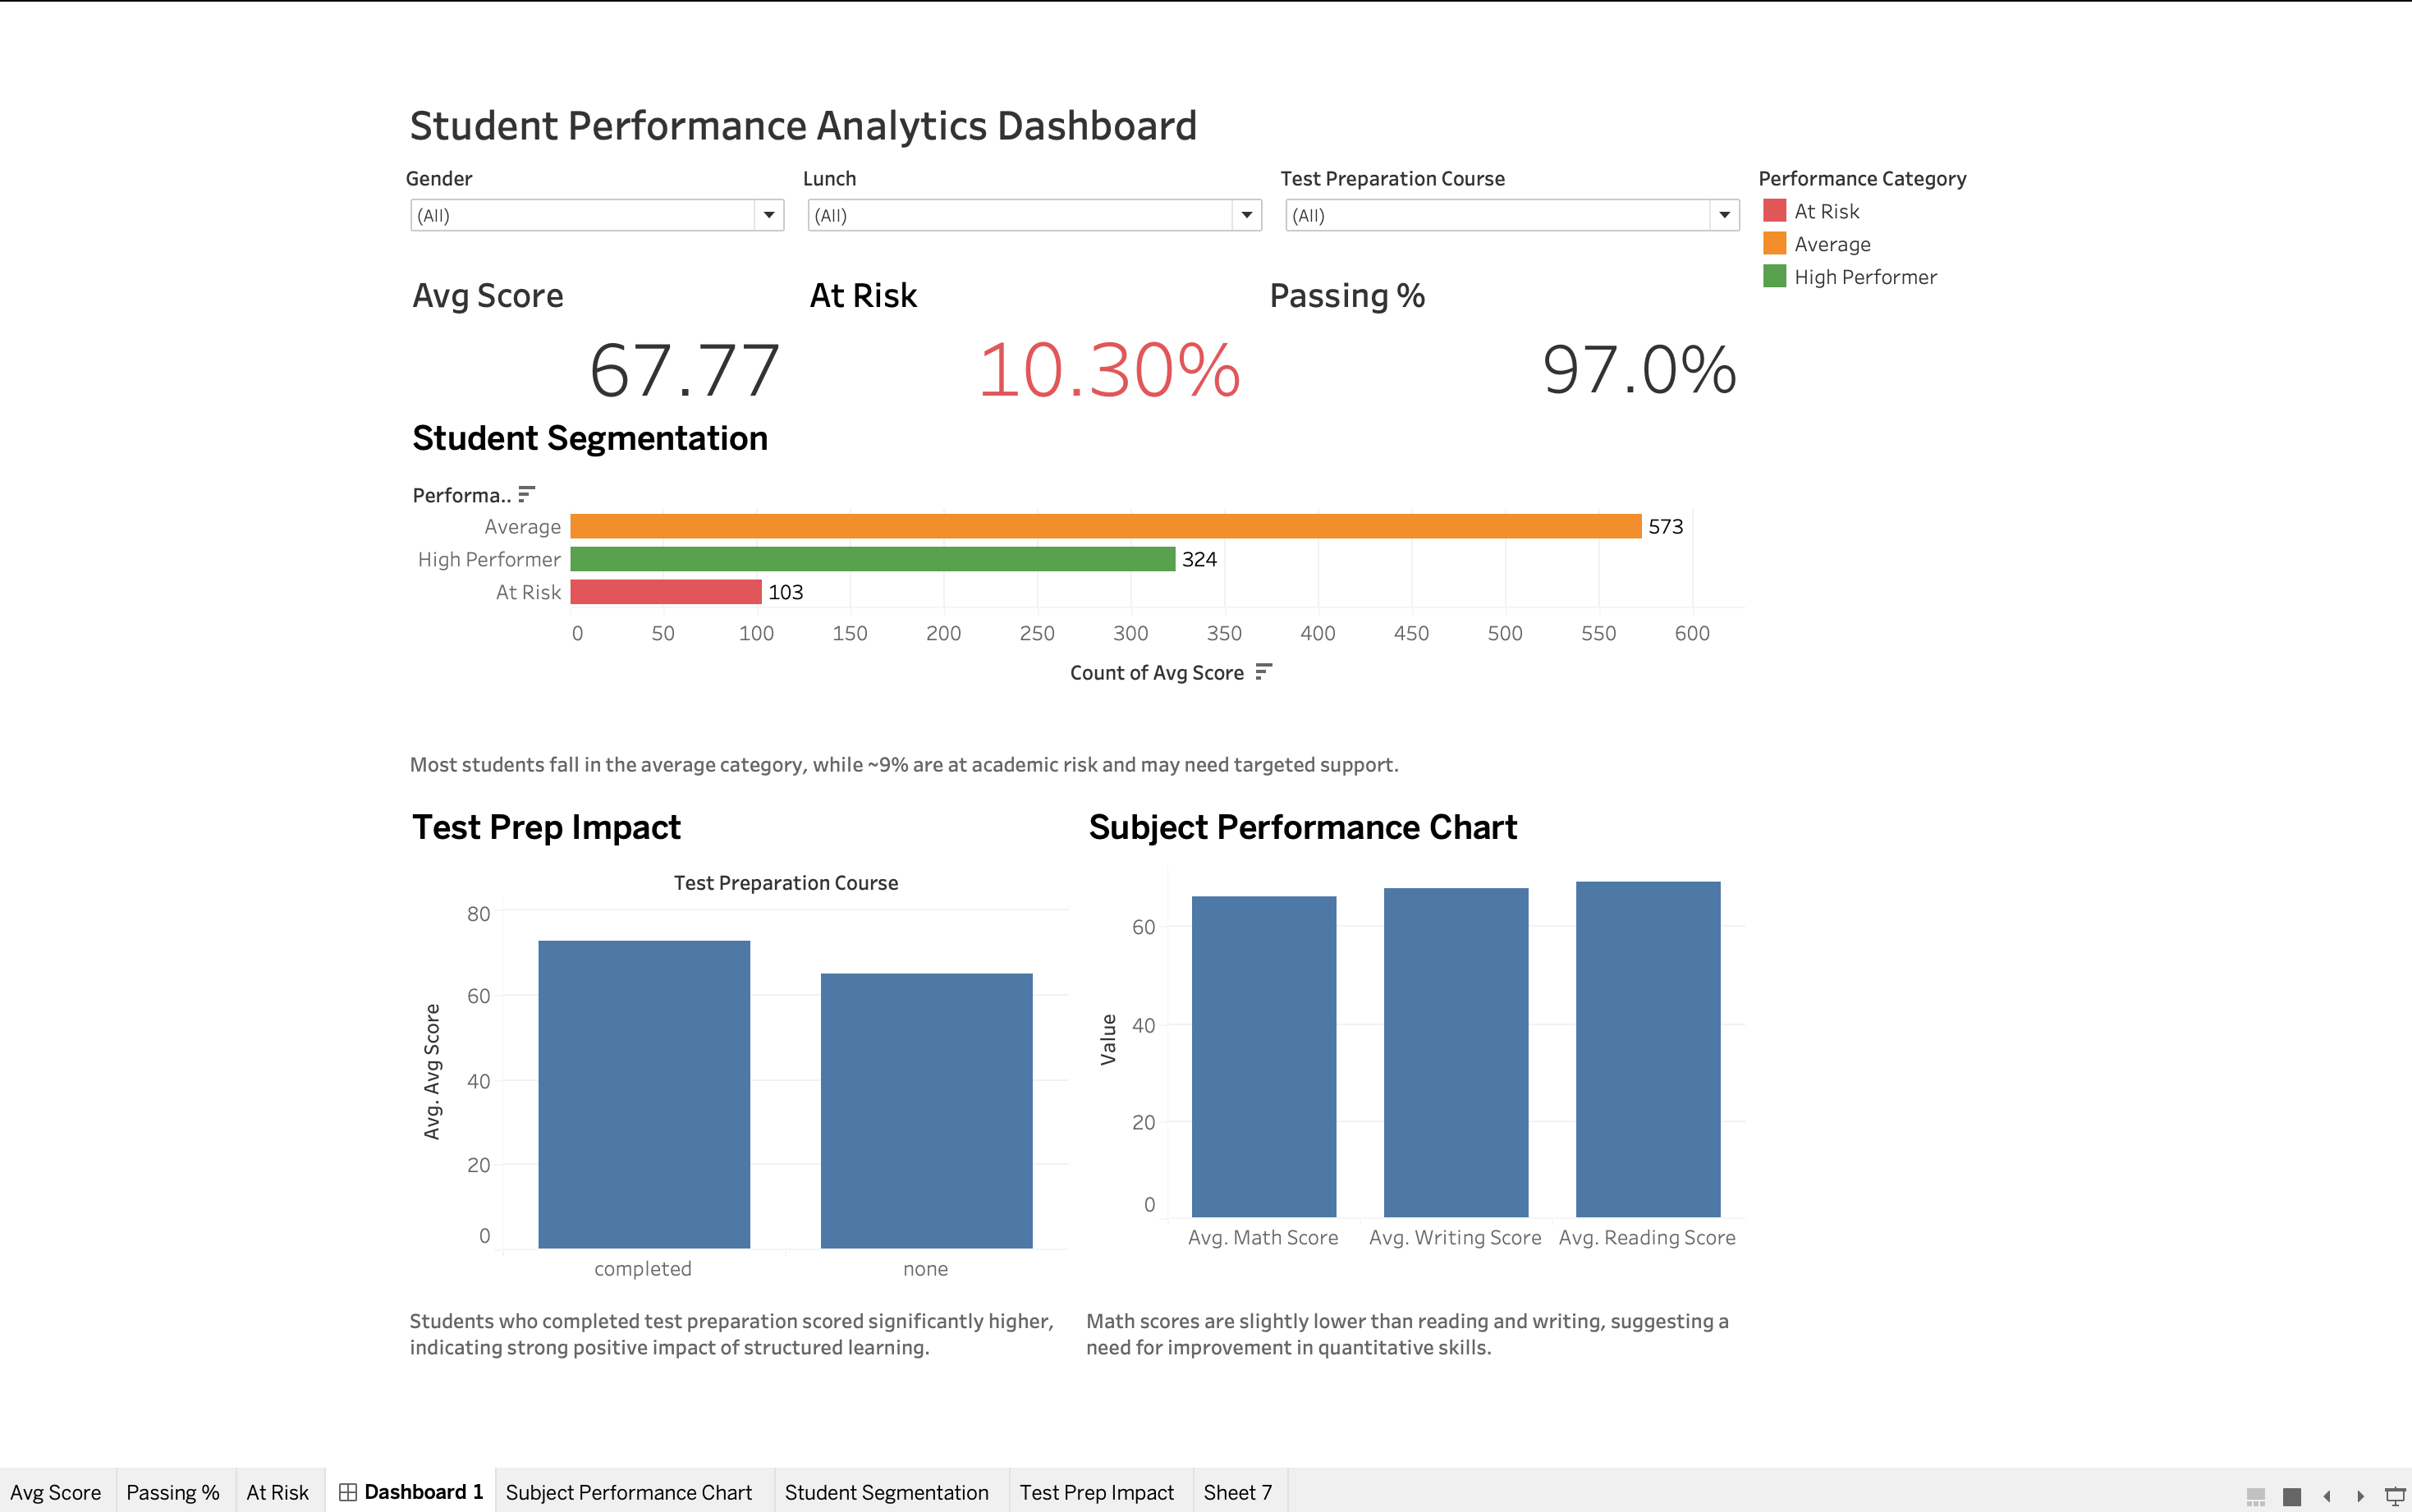

Layout of this report page (visuals, bound fields, positions):
{"tool":"tableau","page":{"name":"Dashboard 1","canvas":[1000,800],"ordinal":0},"visuals":[{"type":"title","box":[8,8,984,41]},{"type":"filter","title":"Student Segmentation","param":"[federated.1it6u1d0tbgidw0zwlf5711wgzc7].[none:gender:nk]","box":[8,49,242,61]},{"type":"filter","title":"Student Segmentation","param":"[federated.1it6u1d0tbgidw0zwlf5711wgzc7].[none:lunch:nk]","box":[250,49,291,61]},{"type":"filter","title":"Student Segmentation","param":"[federated.1it6u1d0tbgidw0zwlf5711wgzc7].[none:test preparation course:nk]","box":[541,49,291,61]},{"type":"legend","title":"Student Segmentation","param":"[federated.1it6u1d0tbgidw0zwlf5711wgzc7].[none:Calculation_0750413901750273:nk]","box":[832,49,160,86]},{"type":"worksheet","title":"Avg Score","mark":"Automatic","box":[8,110,242,90]},{"type":"worksheet","title":"At Risk","mark":"Text","box":[250,110,280,90]},{"type":"worksheet","title":"Passing %","mark":"Automatic","box":[530,110,302,90]},{"type":"worksheet","title":"Student Segmentation","mark":"Automatic","rows":["Calculation_0750413901750273"],"cols":["Calculation_0750413901283328"],"box":[8,200,824,200]},{"type":"text","box":[8,400,824,37]},{"type":"worksheet","title":"Test Prep Impact","mark":"Automatic","rows":["Calculation_0750413901283328"],"cols":["test preparation course"],"box":[8,437,412,302]},{"type":"worksheet","title":"Subject Performance Chart","mark":"Automatic","box":[420,437,412,302]},{"type":"text","box":[8,739,412,53]},{"type":"text","box":[420,739,412,53]}]}

Visuals, with their boxes on the page's 1000x800 design canvas (x1, y1, x2, y2). These are canvas units, not pixel positions in the 2412x1512 screenshot, which may show the page scaled, cropped or inside an application window:
title: [left=8, top=8, right=992, bottom=49]
"Student Segmentation" filter: [left=8, top=49, right=250, bottom=110]
"Student Segmentation" filter: [left=250, top=49, right=541, bottom=110]
"Student Segmentation" filter: [left=541, top=49, right=832, bottom=110]
"Student Segmentation" legend: [left=832, top=49, right=992, bottom=135]
"Avg Score" worksheet: [left=8, top=110, right=250, bottom=200]
"At Risk" worksheet (Text marks): [left=250, top=110, right=530, bottom=200]
"Passing %" worksheet: [left=530, top=110, right=832, bottom=200]
"Student Segmentation" worksheet: [left=8, top=200, right=832, bottom=400]
text: [left=8, top=400, right=832, bottom=437]
"Test Prep Impact" worksheet: [left=8, top=437, right=420, bottom=739]
"Subject Performance Chart" worksheet: [left=420, top=437, right=832, bottom=739]
text: [left=8, top=739, right=420, bottom=792]
text: [left=420, top=739, right=832, bottom=792]
